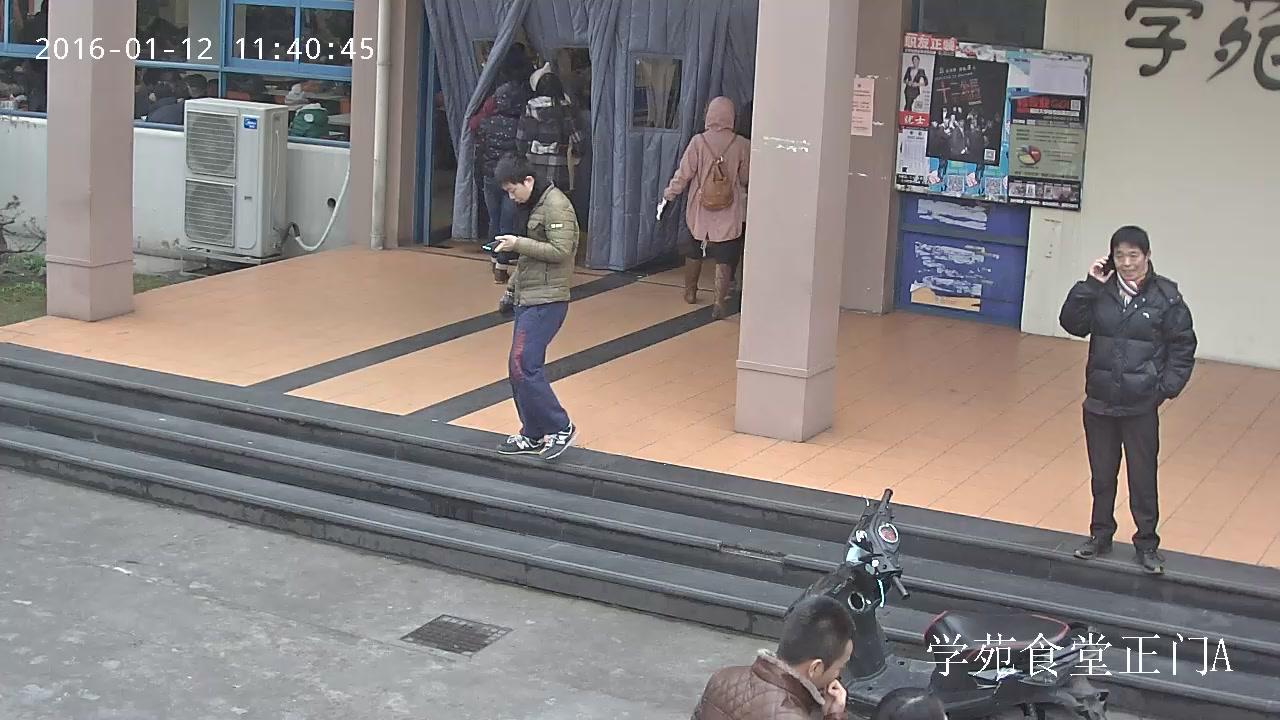person: (1057, 226, 1196, 576), (482, 150, 580, 461), (655, 97, 751, 320), (688, 595, 855, 720), (512, 73, 579, 241), (468, 81, 523, 285), (281, 83, 330, 139), (144, 83, 183, 124), (901, 54, 927, 112)
